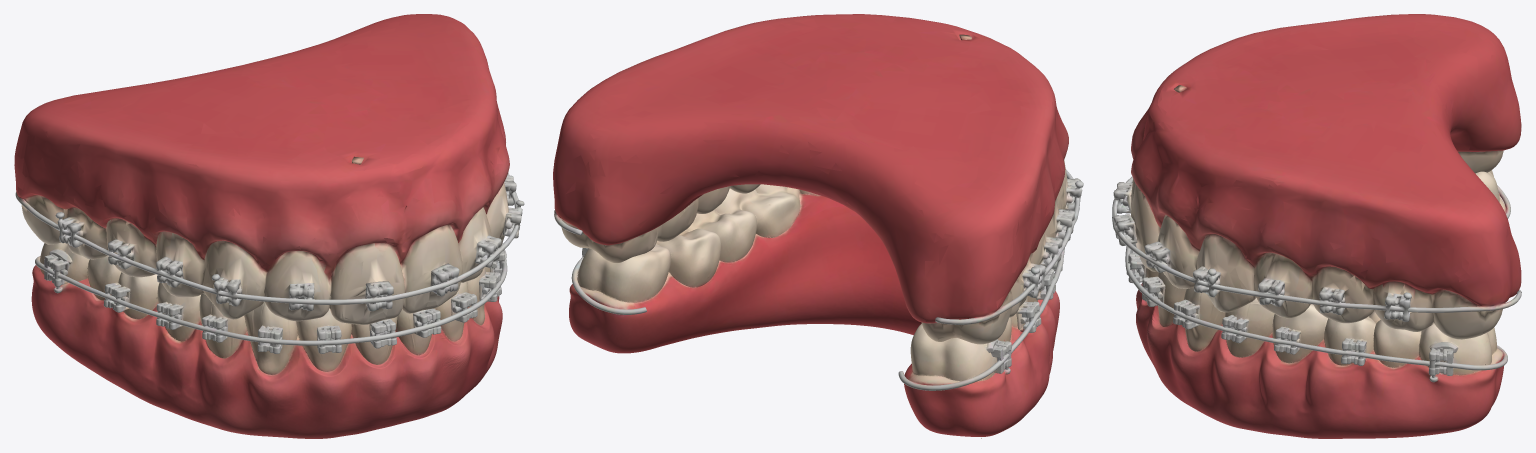
The model's file is ortodoncia-v1.glb.
3 renders of one model, left to right at view 1: azimuth 30°, elevation 25°; view 2: azimuth 150°, elevation 25°; view 3: azimuth 270°, elevation 25°, orthographic. The views are drawn at different scales.
Parts seen in each view (by area): view 1: dental braces 3d model_Clone1, dental braces 3d model_Clone1.001; view 2: dental braces 3d model_Clone1, dental braces 3d model_Clone1.001; view 3: dental braces 3d model_Clone1, dental braces 3d model_Clone1.001.
Part boxes in pixels (x1,y1,x2,y2): dental braces 3d model_Clone1: [14, 14, 524, 324]; dental braces 3d model_Clone1.001: [31, 242, 507, 438]; dental braces 3d model_Clone1: [553, 14, 1083, 438]; dental braces 3d model_Clone1.001: [569, 184, 1064, 436]; dental braces 3d model_Clone1: [1112, 14, 1521, 339]; dental braces 3d model_Clone1.001: [1125, 170, 1510, 438].
Size of the model in its own units: 0.9026 by 0.5578 by 0.7496.
Materials: 1 (1 with a texture image).
